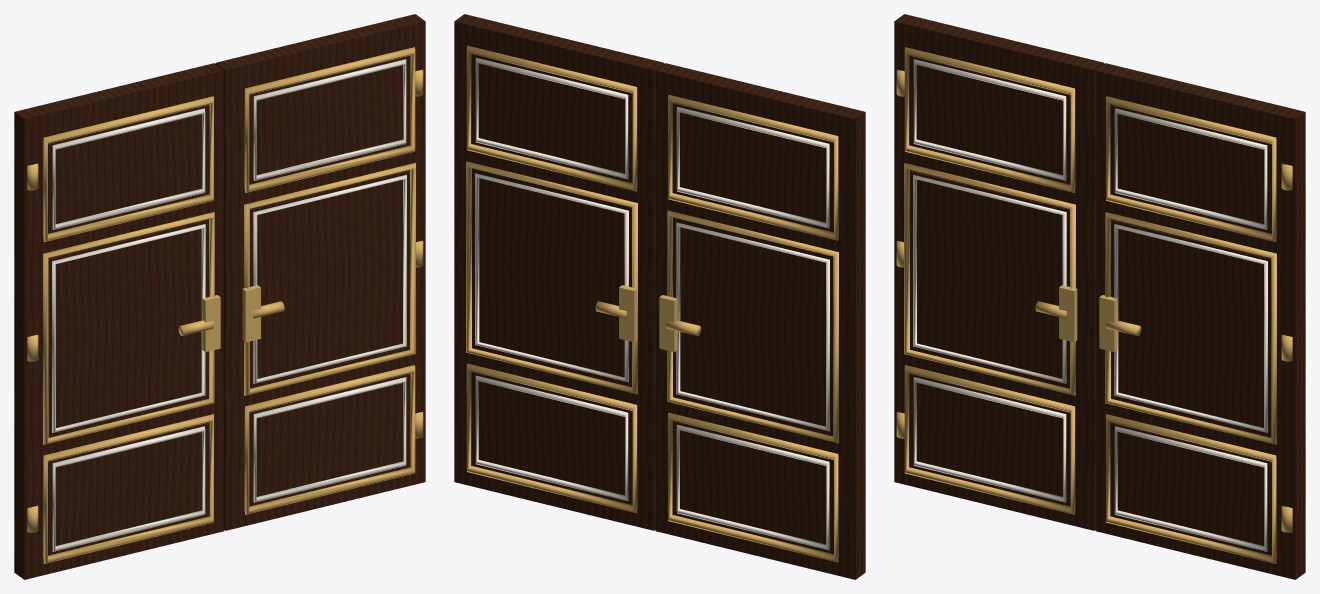
File: portes-mobiles.fbx
3 renders of one model, left to right at view 1: azimuth 30°, elevation 25°; view 2: azimuth 150°, elevation 25°; view 3: azimuth 330°, elevation 25°, orthographic.
Visible parts, largest first — view 1: Oak_Leaf_Left.002, Oak_Leaf_Right.002; view 2: Oak_Leaf_Left.002, Oak_Leaf_Right.002; view 3: Oak_Leaf_Right.002, Oak_Leaf_Left.002.
Boxes of the visible parts, bbox=[...] form: Oak_Leaf_Left.002: bbox=[14, 63, 224, 579]; Oak_Leaf_Right.002: bbox=[215, 14, 425, 530]; Oak_Leaf_Left.002: bbox=[655, 63, 865, 579]; Oak_Leaf_Right.002: bbox=[454, 14, 664, 530]; Oak_Leaf_Right.002: bbox=[1095, 63, 1305, 579]; Oak_Leaf_Left.002: bbox=[894, 14, 1104, 530].
Size of the model in its own units: 3.19 by 3.5 by 0.396.
